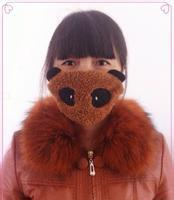OK: (47, 36, 128, 120)
